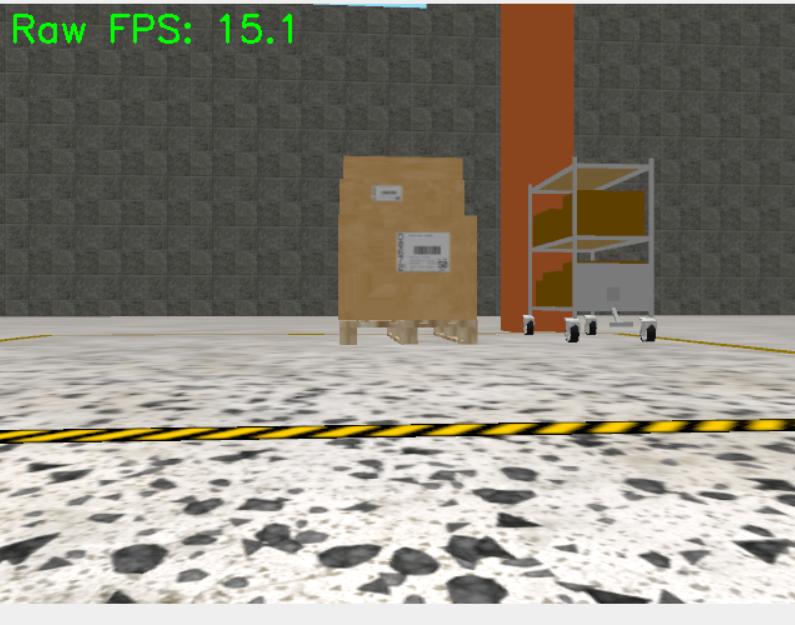barcode: (396, 230, 450, 273), (372, 183, 404, 202)
